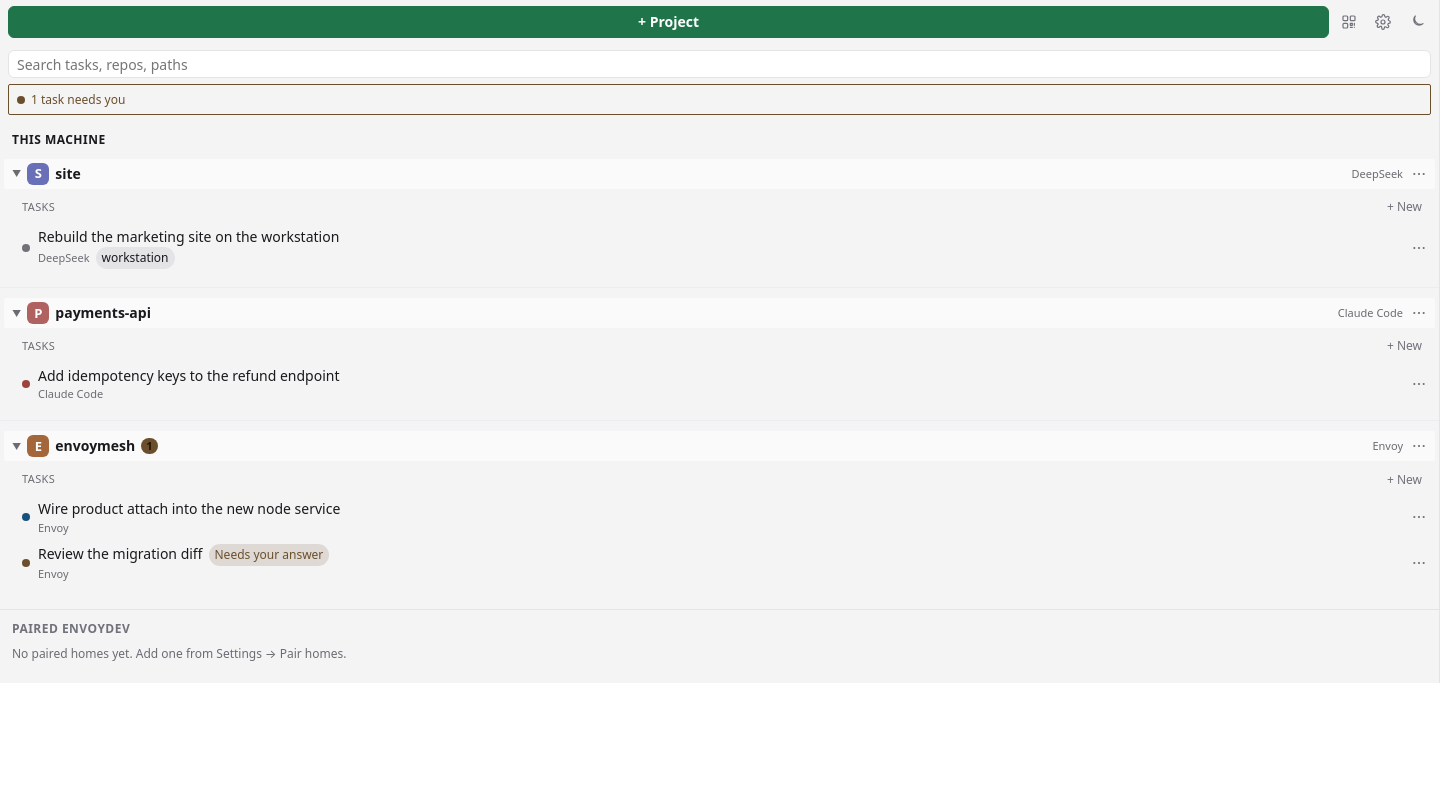
Test: a project's row menu › asks before removing a project, and says what removing it actually does
Click the button named "Actions for payments-api" at (1419, 313), box [1405,299,1433,327]
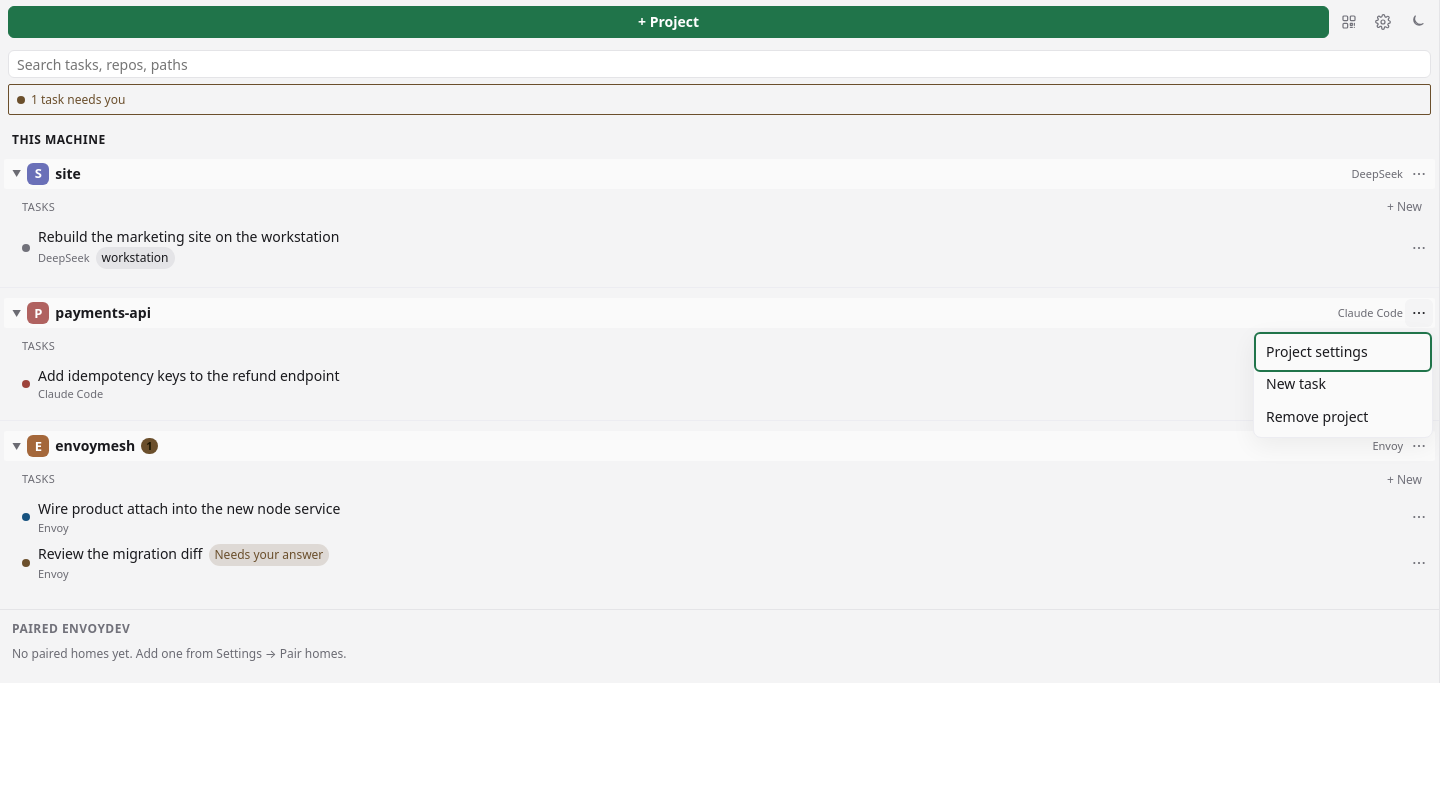
Click the menu item "Remove project" at (1343, 417), box [1258,401,1428,433]
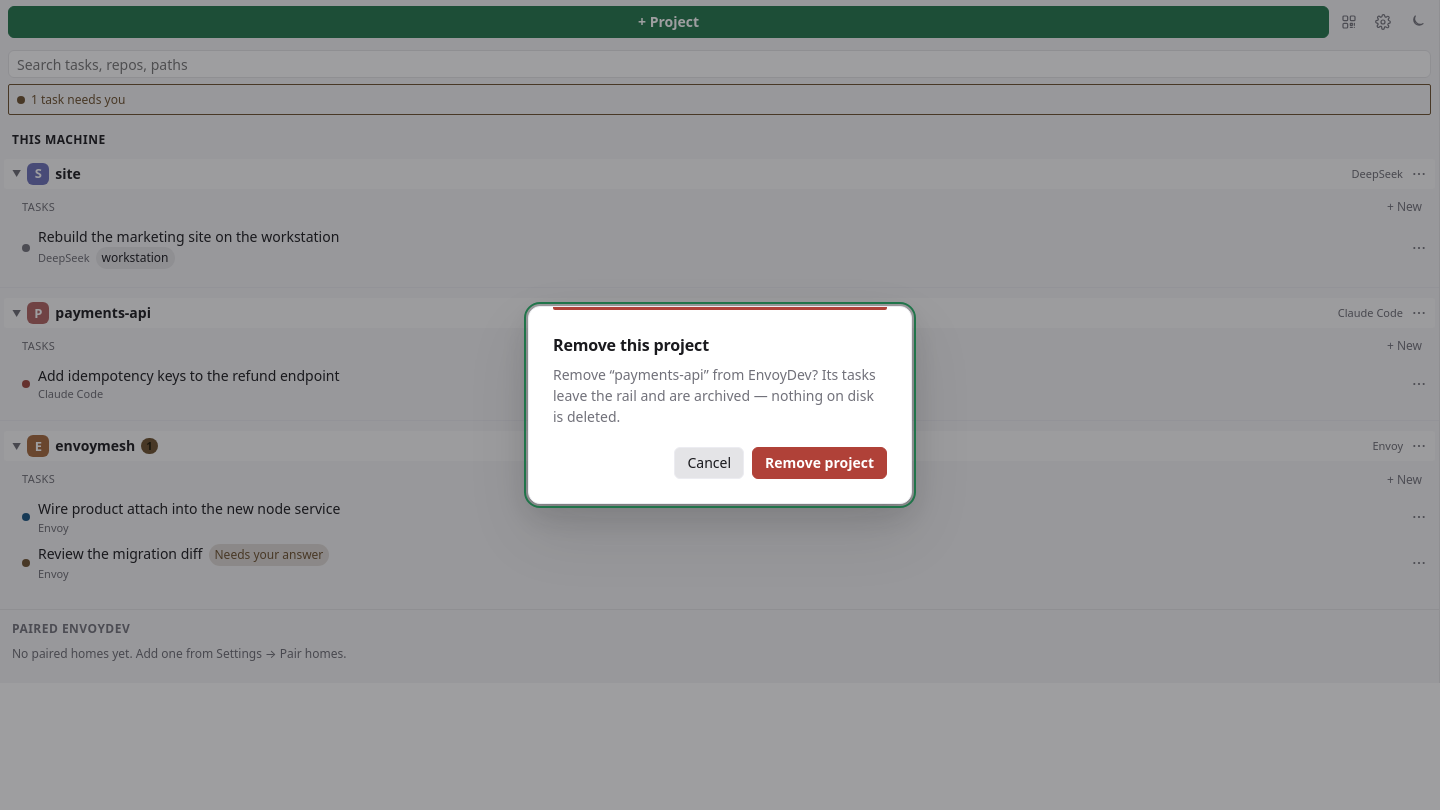
Now the button "Remove project" is shown, box [752,447,887,479]
Now the text "nothing on disk is deleted" is shown, box [553,365,876,426]
